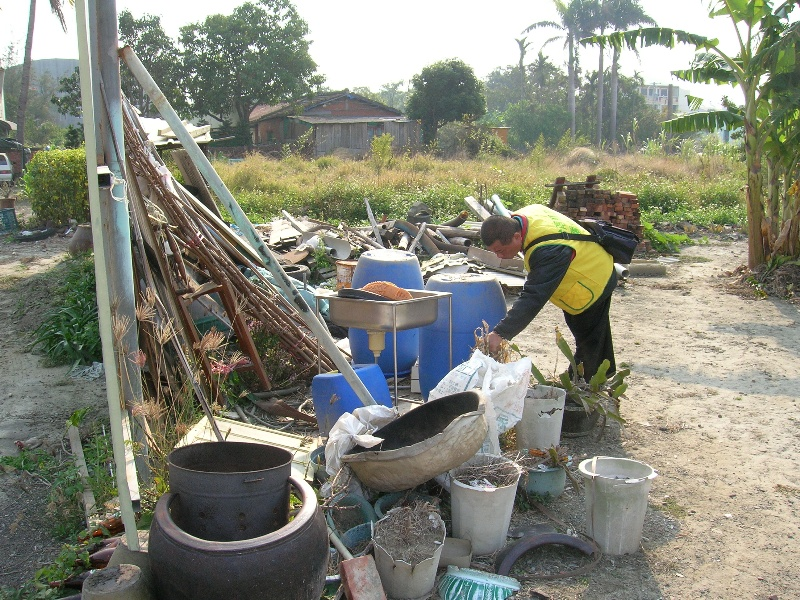bowl: (149, 477, 329, 600), (336, 386, 494, 496)
bucket: (167, 439, 294, 543), (419, 273, 508, 400), (575, 455, 659, 560), (351, 248, 416, 378), (449, 451, 522, 556), (512, 381, 567, 454)
plastic_bag: (431, 352, 531, 456)
